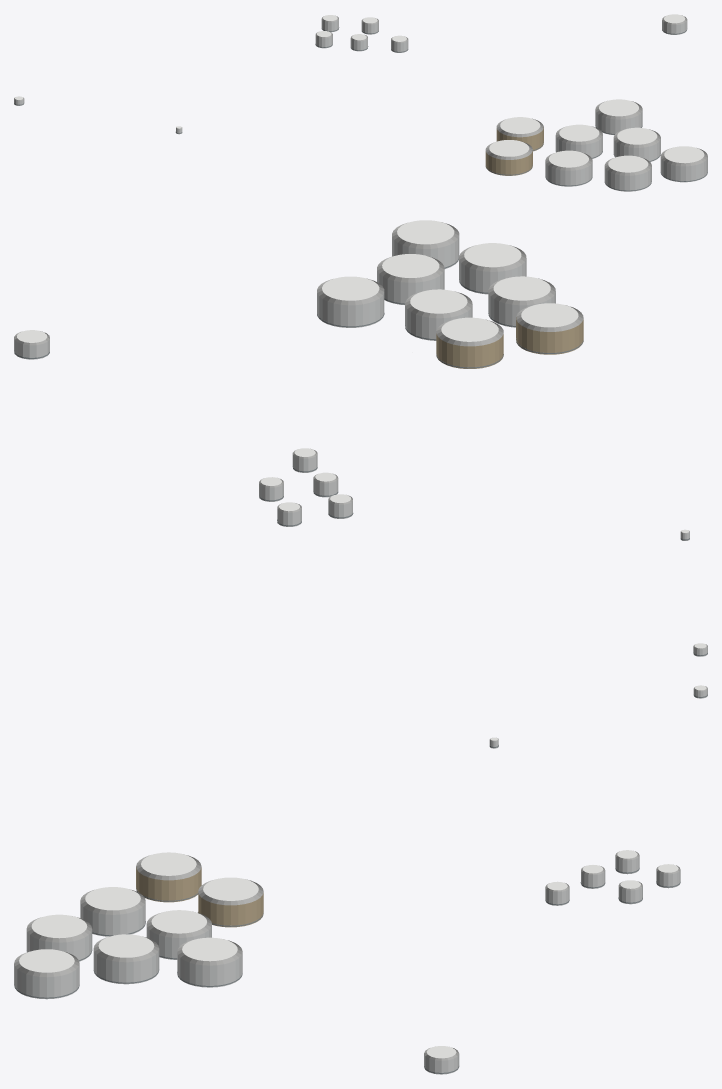
File: web_balashi_tanks.glb
3 renders of one model, top to bottom at view 1: azimuth 30°, elevation 25°; view 2: azimuth 150°, elevation 25°; view 3: azimuth 270°, elevation 25°, orthographic. The views are drawn at different scales.
Parts seen in each view (by area): view 1: web_balashi_tanks_lod0; view 2: web_balashi_tanks_lod0; view 3: web_balashi_tanks_lod0.
Part boxes in pixels (x1,y1,x2,y2): web_balashi_tanks_lod0: [14, 14, 707, 191]; web_balashi_tanks_lod0: [14, 220, 707, 656]; web_balashi_tanks_lod0: [14, 685, 707, 1074].
Size of what is drawn, in the model's own units: 509 by 20.08 by 383.
